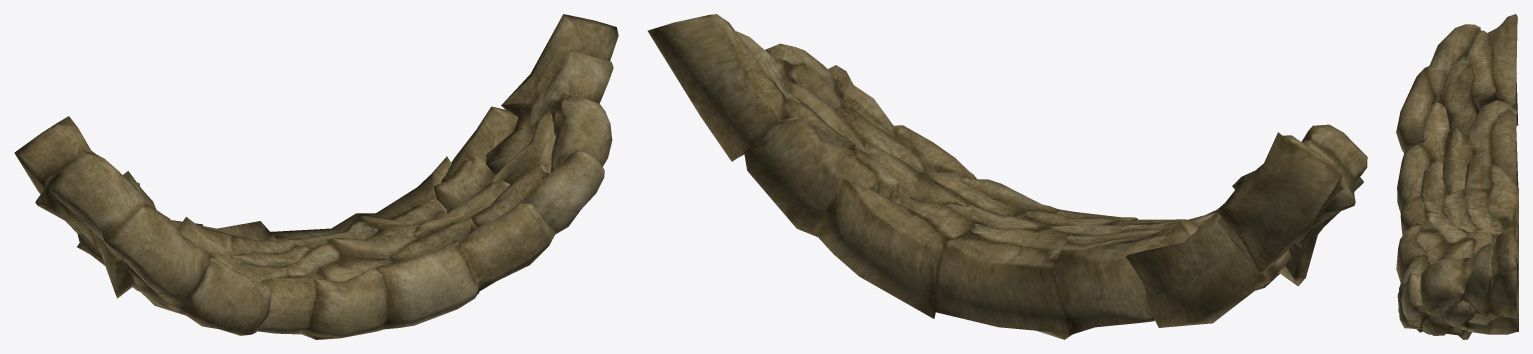
File: military_sandbag_desert_curvedsection.glb
The picture shows the model from 3 angles, left to right: view 1: azimuth 30°, elevation 25°; view 2: azimuth 150°, elevation 25°; view 3: azimuth 270°, elevation 25°; orthographic projection. The views are drawn at different scales.
Size of the model in its own units: 154 by 59 by 33.53.
1 material, 1 textured.
